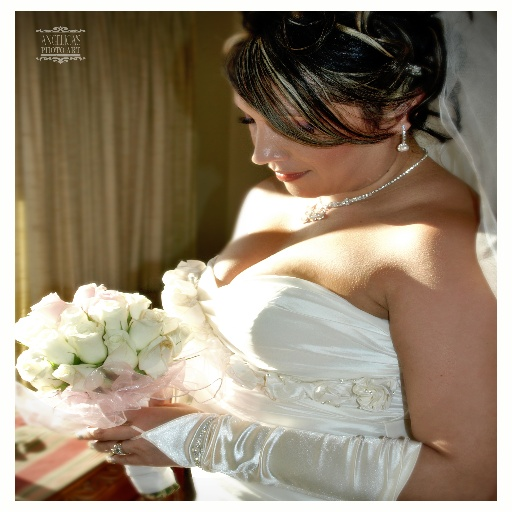hand: (61, 399, 178, 470)
